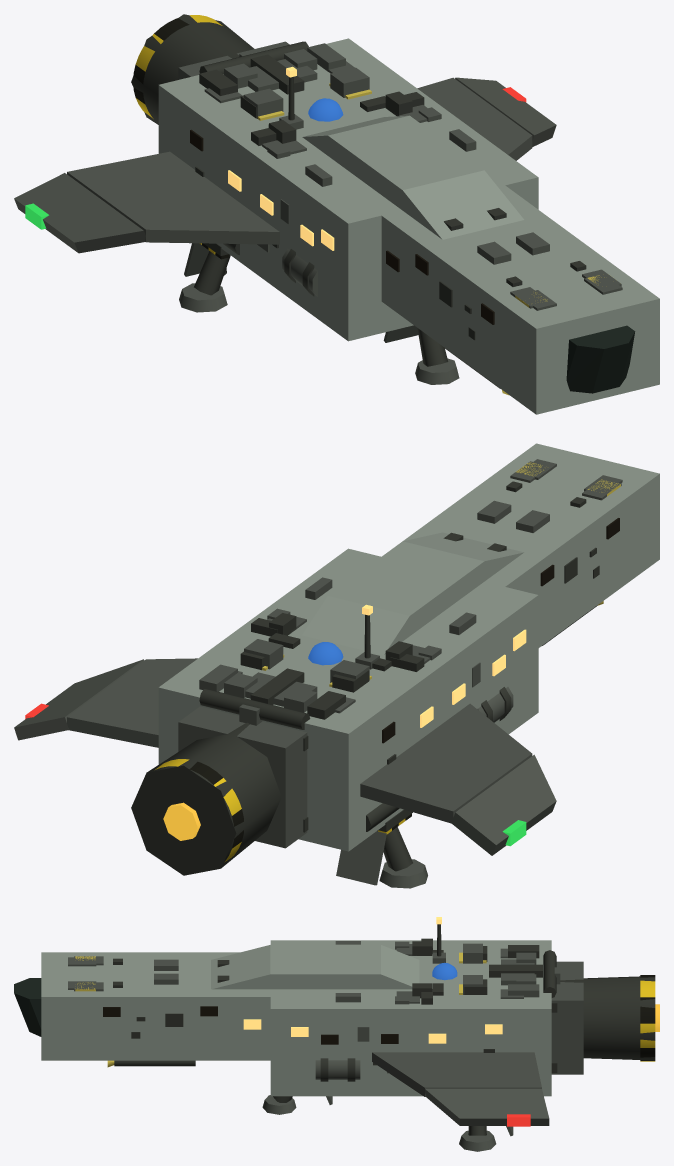
The model's file is police-s(3).glb.
The picture shows the model from 3 angles, top to bottom: view 1: azimuth 30°, elevation 25°; view 2: azimuth 150°, elevation 25°; view 3: azimuth 270°, elevation 25°; orthographic projection. The views are drawn at different scales.
Parts seen in each view (by area): view 1: hullMain, hullNose, canopyFairing, wingInnerLeft, wingOuterLeft, engineHousing, cockpitGlass, wingInnerRight, wingOuterRight, gearFoot (×2), gearStrut (×2), propellantHeader (+8 smaller); view 2: hullMain, hullNose, canopyFairing, engineHousing, wingInnerLeft, engineBayExtension, wingInnerRight, wingOuterLeft, wingOuterRight, gearBayDoor, propellantHeader, engineGlow (+7 smaller); view 3: hullMain, hullNose, canopyFairing, wingInnerRight, engineHousing, wingOuterRight, engineBayExtension, cockpitGlass, gearFoot (×2), policeShiphullMainPropellantTankR, propellantTrunk, propellantHeader (+4 smaller).
Boxes of the visible parts, x1,y1,x2,y2 form: hullMain: [158, 38, 538, 341]; hullNose: [367, 174, 659, 414]; canopyFairing: [302, 115, 523, 239]; wingInnerLeft: [67, 151, 279, 244]; wingOuterLeft: [14, 173, 145, 253]; engineHousing: [131, 14, 254, 124]; cockpitGlass: [566, 325, 635, 393]; wingInnerRight: [417, 77, 532, 160]; wingOuterRight: [455, 77, 556, 146]; gearFoot (×2): [179, 283, 459, 384]; gearStrut (×2): [194, 251, 448, 366]; propellantHeader: [199, 41, 308, 74]; hullMain: [158, 548, 538, 851]; hullNose: [403, 443, 659, 647]; canopyFairing: [302, 532, 523, 655]; engineHousing: [131, 722, 281, 875]; wingInnerLeft: [360, 703, 532, 823]; engineBayExtension: [178, 706, 307, 848]; wingInnerRight: [67, 658, 197, 747]; wingOuterLeft: [451, 754, 556, 855]; wingOuterRight: [14, 659, 144, 740]; gearBayDoor: [336, 831, 386, 885]; propellantHeader: [199, 689, 310, 729]; engineGlow: [163, 802, 200, 840]; hullMain: [270, 940, 551, 1096]; hullNose: [41, 952, 292, 1060]; canopyFairing: [211, 944, 419, 989]; wingInnerRight: [372, 1052, 541, 1096]; engineHousing: [560, 976, 655, 1060]; wingOuterRight: [425, 1088, 549, 1125]; engineBayExtension: [551, 961, 583, 1074]; cockpitGlass: [14, 978, 41, 1036]; gearFoot (×2): [262, 1095, 496, 1151]; policeShiphullMainPropellantTankR: [315, 1060, 360, 1079]; propellantTrunk: [489, 964, 542, 977]; propellantHeader: [543, 950, 556, 997].
Size of the model in its own units: 2.81 by 1.31 by 4.37.
